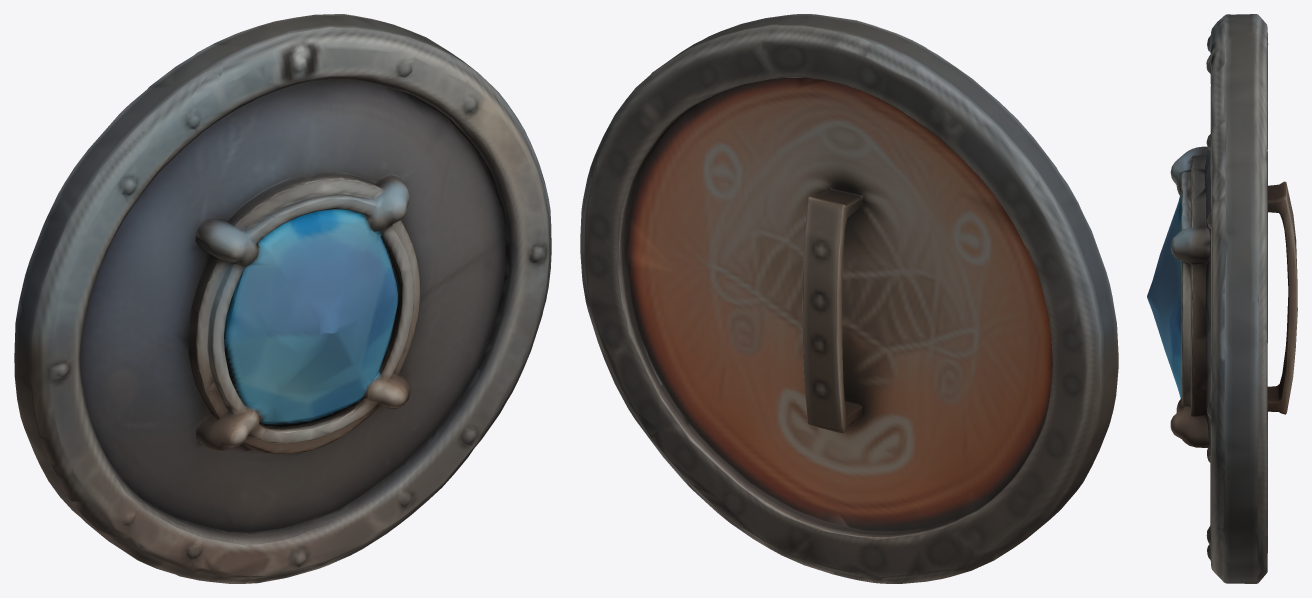
3 views of the same model, side by side, from view 1: azimuth 30°, elevation 25°; view 2: azimuth 150°, elevation 25°; view 3: azimuth 270°, elevation 25° (orthographic). The views are drawn at different scales.
Parts seen in each view (by area): view 1: bulwark-amulet; view 2: bulwark-amulet; view 3: bulwark-amulet.
Part boxes in pixels (x1,y1,x2,y2): bulwark-amulet: (14, 14, 551, 583); bulwark-amulet: (580, 14, 1118, 583); bulwark-amulet: (1147, 14, 1297, 583).
Size of the model in its own units: 0.1736 by 0.1733 by 0.0456.
Materials: 1 (1 with a texture image).
